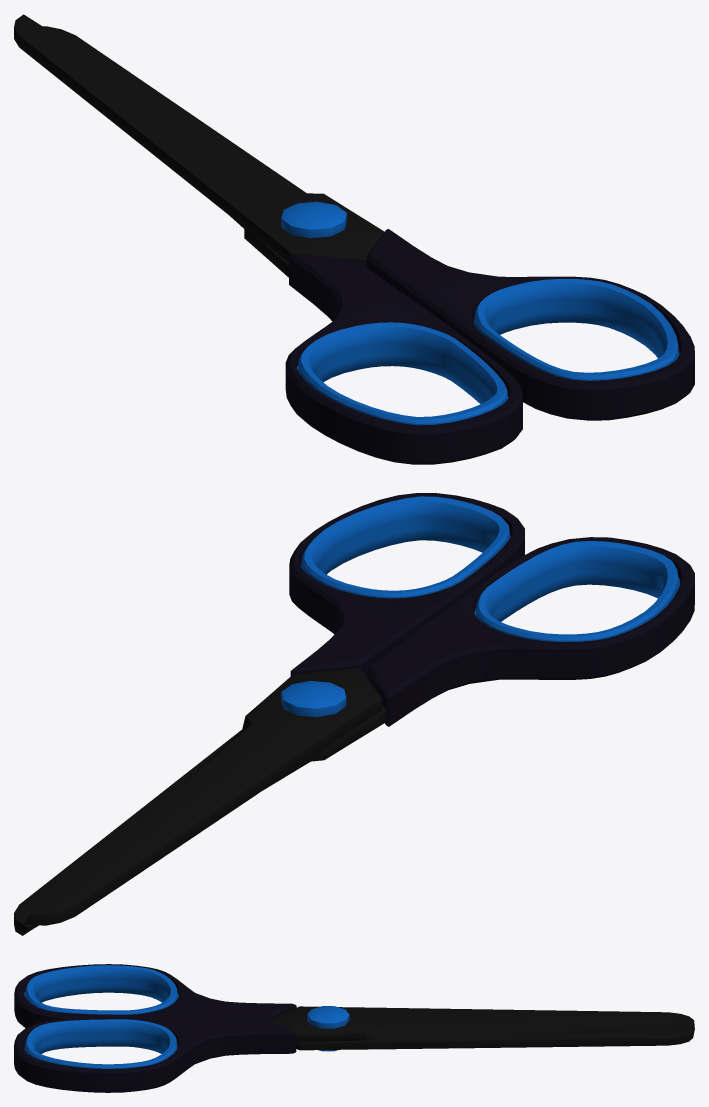
The model's file is scissors.FBX.
The picture shows the model from 3 angles, top to bottom: view 1: azimuth 30°, elevation 25°; view 2: azimuth 150°, elevation 25°; view 3: azimuth 270°, elevation 25°; orthographic projection. The views are drawn at different scales.
Visible parts, largest first — view 1: hilt_2, hilt_1, scissors_1, scissors_2, fasteners; view 2: hilt_2, hilt_1, scissors_1, scissors_2, fasteners; view 3: hilt_1, scissors_1, hilt_2, scissors_2, fasteners.
Part boxes in pixels (x1,y1,x2,y2): hilt_2: [285, 254, 522, 464]; hilt_1: [366, 229, 694, 420]; scissors_1: [14, 14, 384, 266]; scissors_2: [43, 26, 306, 277]; fasteners: [281, 201, 346, 238]; hilt_2: [367, 537, 694, 726]; hilt_1: [289, 493, 524, 678]; scissors_1: [24, 668, 381, 925]; scissors_2: [14, 705, 386, 935]; fasteners: [281, 680, 346, 717]; hilt_1: [14, 1018, 296, 1092]; scissors_1: [269, 1006, 694, 1042]; hilt_2: [14, 964, 296, 1028]; scissors_2: [296, 1029, 694, 1050]; fasteners: [307, 1006, 349, 1051].
Size of the model in its own units: 2.75 by 0.3731 by 7.21.
